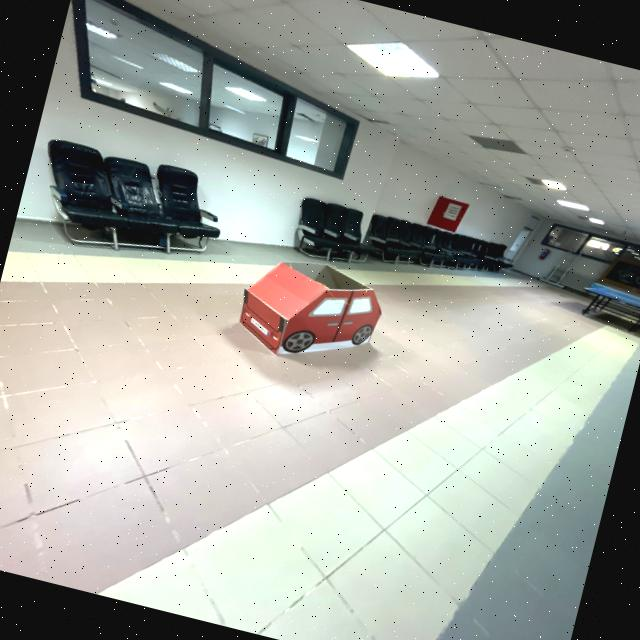red_car: (216, 238, 397, 389)
